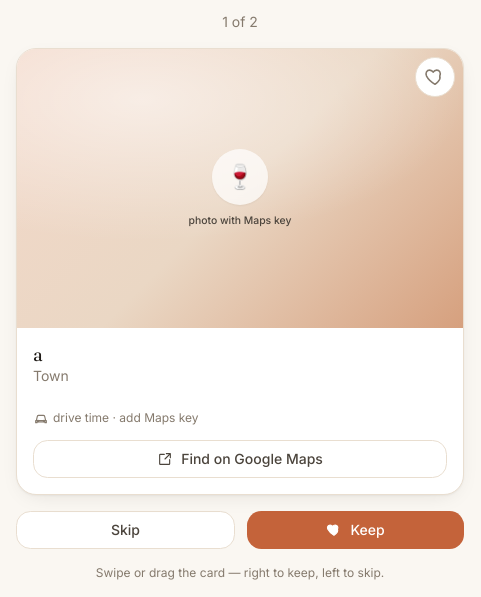
Test: SwipeDeck — swipe gestures › drag right keeps (saves) the card and advances
The width and height of the screenshot is (481, 597).
Expected: the text "1 of 2" is shown, [222,12,258,32]
Press the mouse on the element with class "touch-pan-y" at (240, 272), box [16,48,464,495]
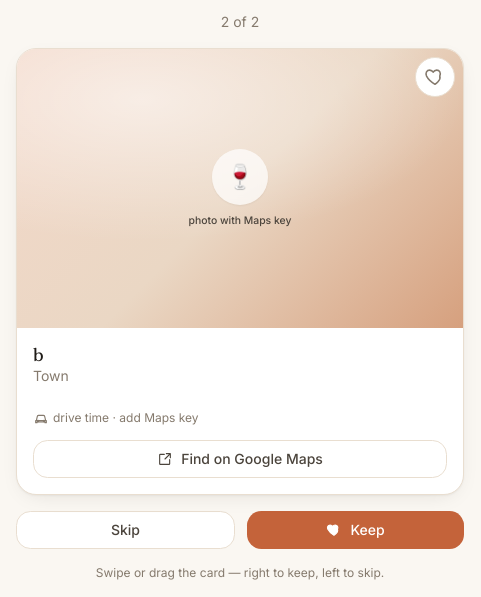
Expected: the text "2 of 2" is shown, [221,12,259,32]
